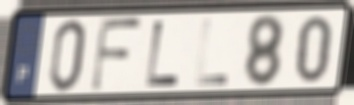0: (46, 17, 89, 95), (294, 14, 336, 85)
8: (241, 11, 287, 91)
F: (88, 15, 144, 95)
L: (143, 18, 183, 89), (193, 17, 230, 88)
